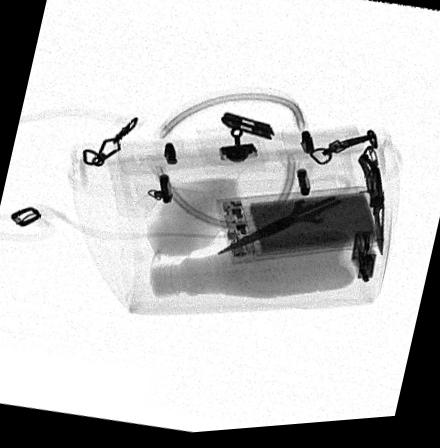Knife: (359, 153, 383, 260)
Powerbank: (216, 191, 379, 268)
Scissors: (217, 178, 367, 257)
